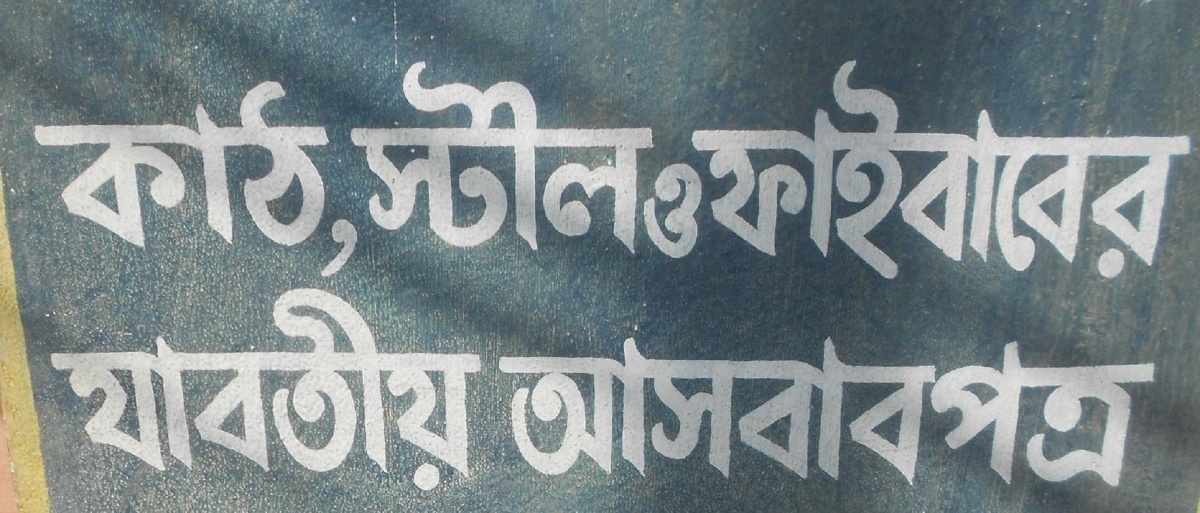text: (689, 57, 704, 282), (705, 57, 720, 282), (721, 57, 736, 282), (737, 57, 752, 282), (753, 57, 768, 282), (769, 57, 784, 282), (785, 57, 800, 282), (801, 57, 816, 282), (817, 57, 832, 282), (833, 57, 848, 282), (849, 57, 864, 282), (865, 57, 880, 282), (881, 57, 896, 282), (897, 57, 912, 282), (913, 57, 928, 282), (929, 57, 944, 282), (945, 57, 960, 282), (961, 57, 976, 282), (977, 57, 992, 282), (993, 57, 1008, 282), (1009, 57, 1024, 282), (1025, 57, 1040, 282), (1041, 57, 1056, 282), (1057, 57, 1072, 282), (1073, 57, 1088, 282), (1089, 57, 1104, 282), (1105, 57, 1120, 282), (1121, 57, 1136, 282), (1137, 57, 1152, 282), (1153, 57, 1168, 282), (1169, 57, 1184, 282), (33, 287, 48, 496), (49, 287, 64, 496), (65, 287, 80, 496), (81, 287, 96, 496), (97, 287, 112, 496), (113, 287, 128, 496), (129, 287, 144, 496), (145, 287, 160, 496), (161, 287, 176, 496), (177, 287, 192, 496), (193, 287, 208, 496), (209, 287, 224, 496), (225, 287, 240, 496), (241, 287, 256, 496), (257, 287, 272, 496), (273, 287, 288, 496), (289, 287, 304, 496), (305, 287, 320, 496), (321, 287, 336, 496), (337, 287, 352, 496), (353, 287, 368, 496), (369, 287, 384, 496), (385, 287, 400, 496), (401, 287, 416, 496), (417, 287, 432, 496), (433, 287, 448, 496), (449, 287, 464, 496), (465, 287, 480, 496), (33, 81, 48, 283), (49, 81, 64, 283), (65, 81, 80, 283), (81, 81, 96, 283), (97, 81, 112, 283), (113, 81, 128, 283), (129, 81, 144, 283), (145, 81, 160, 283), (161, 81, 176, 283), (177, 81, 192, 283), (193, 81, 208, 283), (209, 81, 224, 283), (225, 81, 240, 283), (241, 81, 256, 283), (257, 81, 272, 283), (273, 81, 288, 283), (289, 81, 304, 283), (305, 81, 320, 283), (321, 81, 336, 283), (337, 81, 352, 283), (353, 81, 368, 283), (353, 57, 368, 253), (369, 57, 384, 253), (385, 57, 400, 253), (401, 57, 416, 253), (417, 57, 432, 253), (433, 57, 448, 253), (449, 57, 464, 253), (465, 57, 480, 253), (481, 57, 496, 253), (497, 57, 512, 253), (513, 57, 528, 253), (529, 57, 544, 253), (545, 57, 560, 253), (561, 57, 576, 253), (577, 57, 592, 253), (593, 57, 608, 253), (609, 57, 624, 253), (625, 57, 640, 253), (641, 57, 656, 253), (338, 57, 352, 253), (1185, 57, 1197, 282), (497, 334, 512, 488), (513, 334, 528, 488), (529, 334, 544, 488), (545, 334, 560, 488), (561, 334, 576, 488), (577, 334, 592, 488), (593, 334, 608, 488), (609, 334, 624, 488), (625, 334, 640, 488), (641, 334, 656, 488), (657, 334, 672, 488), (673, 334, 688, 488), (689, 334, 704, 488), (705, 334, 720, 488), (721, 334, 736, 488), (737, 334, 752, 488), (753, 334, 768, 488), (769, 334, 784, 488), (785, 334, 800, 488), (801, 334, 816, 488), (817, 334, 832, 488), (833, 334, 848, 488), (849, 334, 864, 488), (865, 334, 880, 488), (881, 334, 896, 488), (897, 334, 912, 488), (913, 334, 928, 488), (929, 334, 944, 488), (945, 334, 960, 488), (961, 334, 976, 488), (977, 334, 992, 488), (993, 334, 1008, 488), (1009, 334, 1024, 488), (1025, 334, 1040, 488), (1041, 334, 1056, 488), (1057, 334, 1072, 488), (1073, 334, 1088, 488), (1089, 334, 1104, 488), (1105, 334, 1120, 488), (1121, 334, 1136, 488), (1137, 334, 1152, 488), (657, 57, 668, 253), (23, 81, 32, 283), (681, 57, 688, 282), (657, 162, 672, 259), (673, 162, 688, 259), (689, 162, 704, 259), (369, 81, 376, 283), (26, 287, 32, 496), (644, 162, 656, 259), (481, 287, 486, 496), (1153, 334, 1159, 488)
